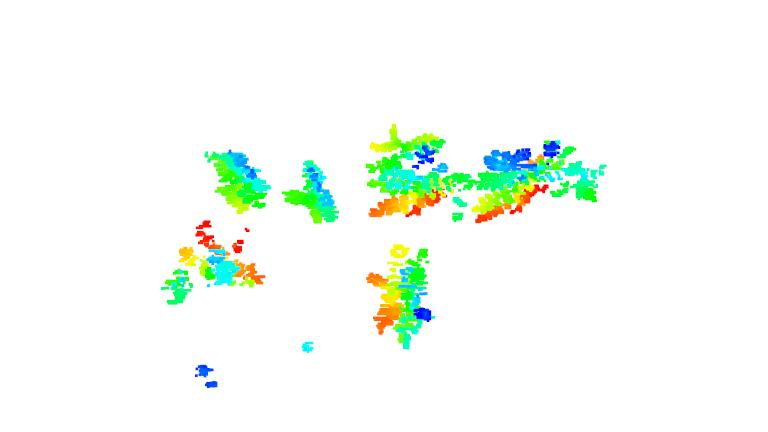chickpea: (469, 141, 606, 224), (367, 126, 472, 218), (159, 217, 265, 307), (364, 244, 436, 350), (202, 146, 274, 216), (284, 160, 342, 224)
